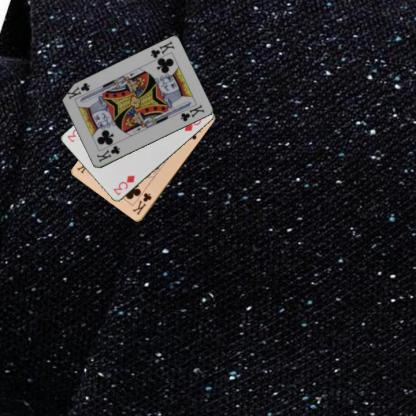3d: (110, 173, 136, 197)
Kc: (148, 38, 176, 60), (130, 191, 153, 216), (94, 144, 121, 164)
